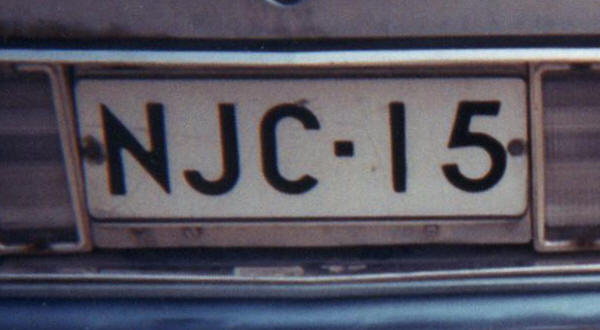license_plate: (71, 75, 532, 222)
